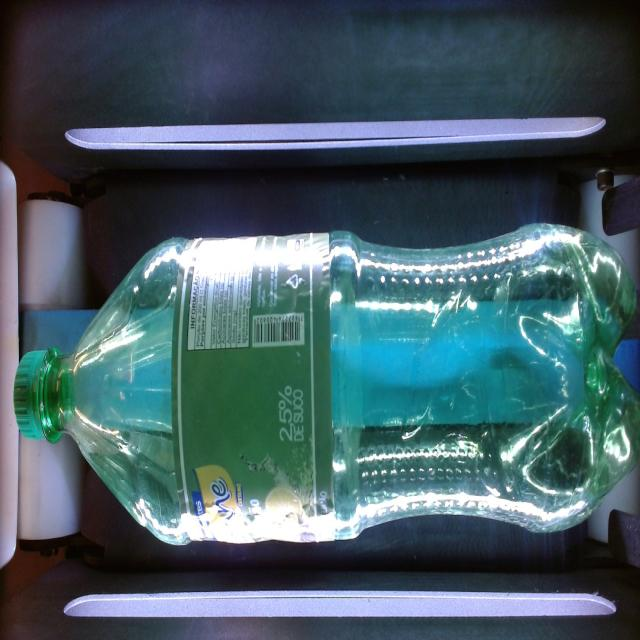bottom: (528, 212, 636, 540)
cap: (8, 338, 80, 446)
code: (246, 308, 310, 360)
